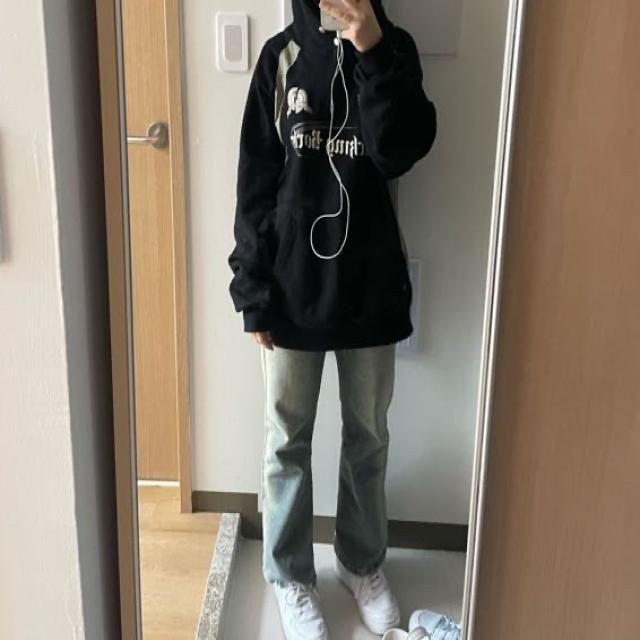denimpants: (260, 343, 394, 584)
mtm: (234, 11, 444, 346)
